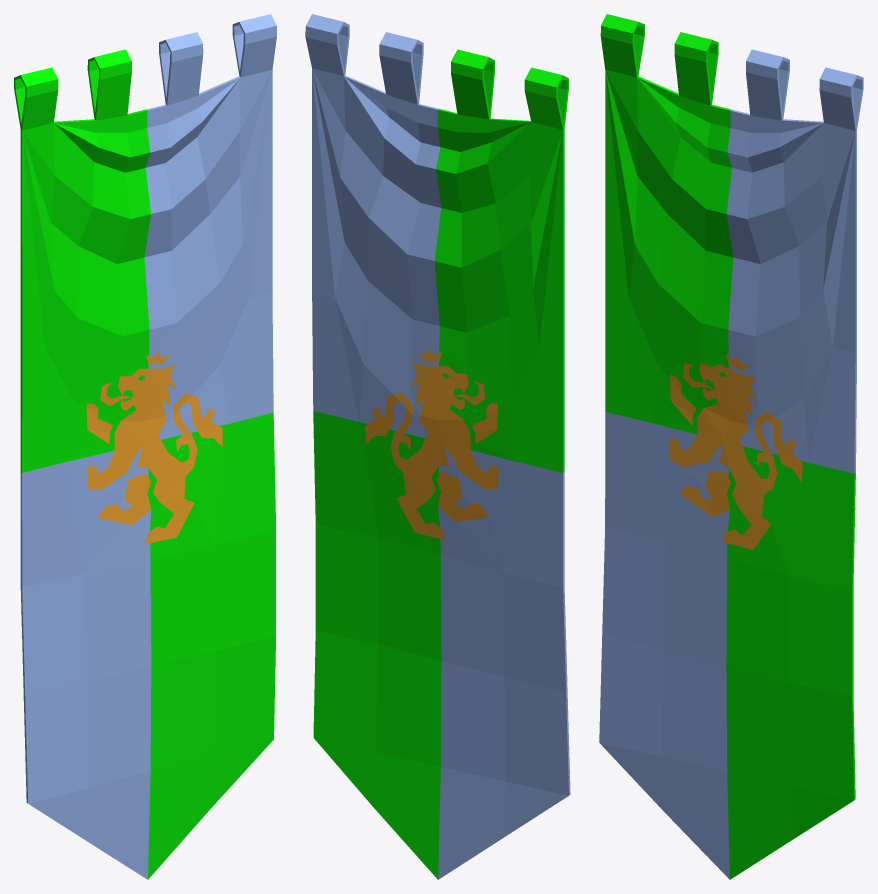
The model's file is SM_Flag_Banner_Medium_A_Fantasy.fbx.
3 views of the same model, side by side, from view 1: azimuth 30°, elevation 25°; view 2: azimuth 150°, elevation 25°; view 3: azimuth 330°, elevation 25° (orthographic).
Visible parts, largest first — view 1: flag-banner-medium-a-fantasy; view 2: flag-banner-medium-a-fantasy; view 3: flag-banner-medium-a-fantasy.
Boxes of the visible parts, x1,y1,x2,y2 form: flag-banner-medium-a-fantasy: (14,14,276,879); flag-banner-medium-a-fantasy: (305,14,570,879); flag-banner-medium-a-fantasy: (599,14,863,879).
Size of the model in its own units: 0.9569 by 3.04 by 0.0934.
